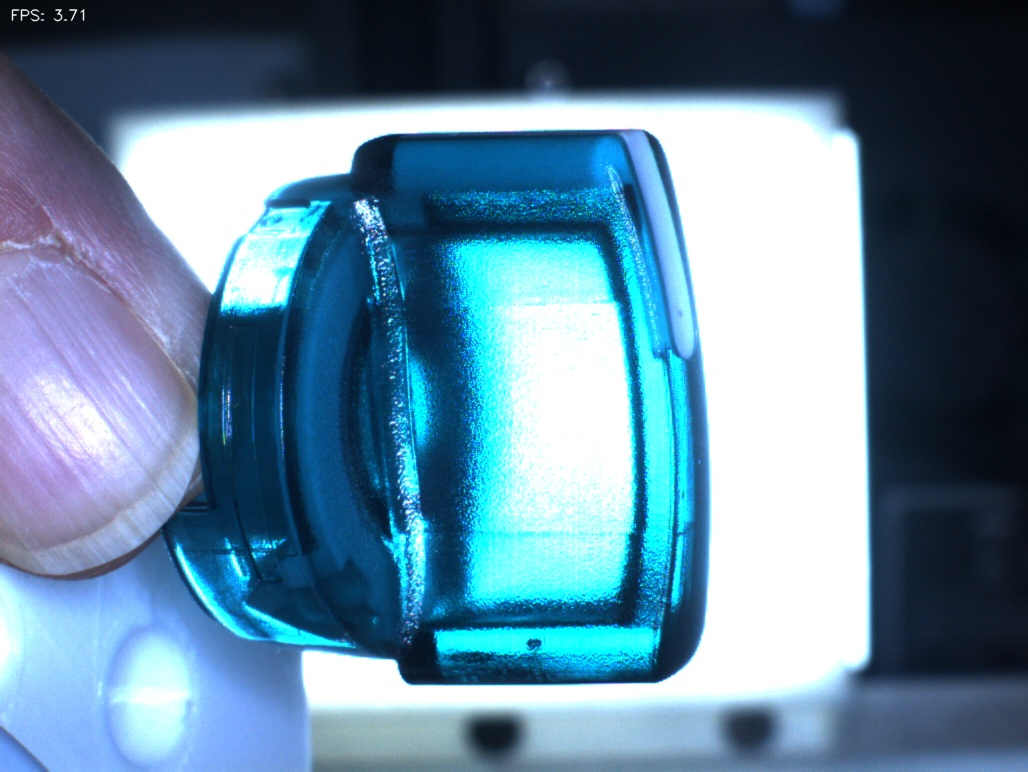Bulle: (502, 601, 582, 690)
